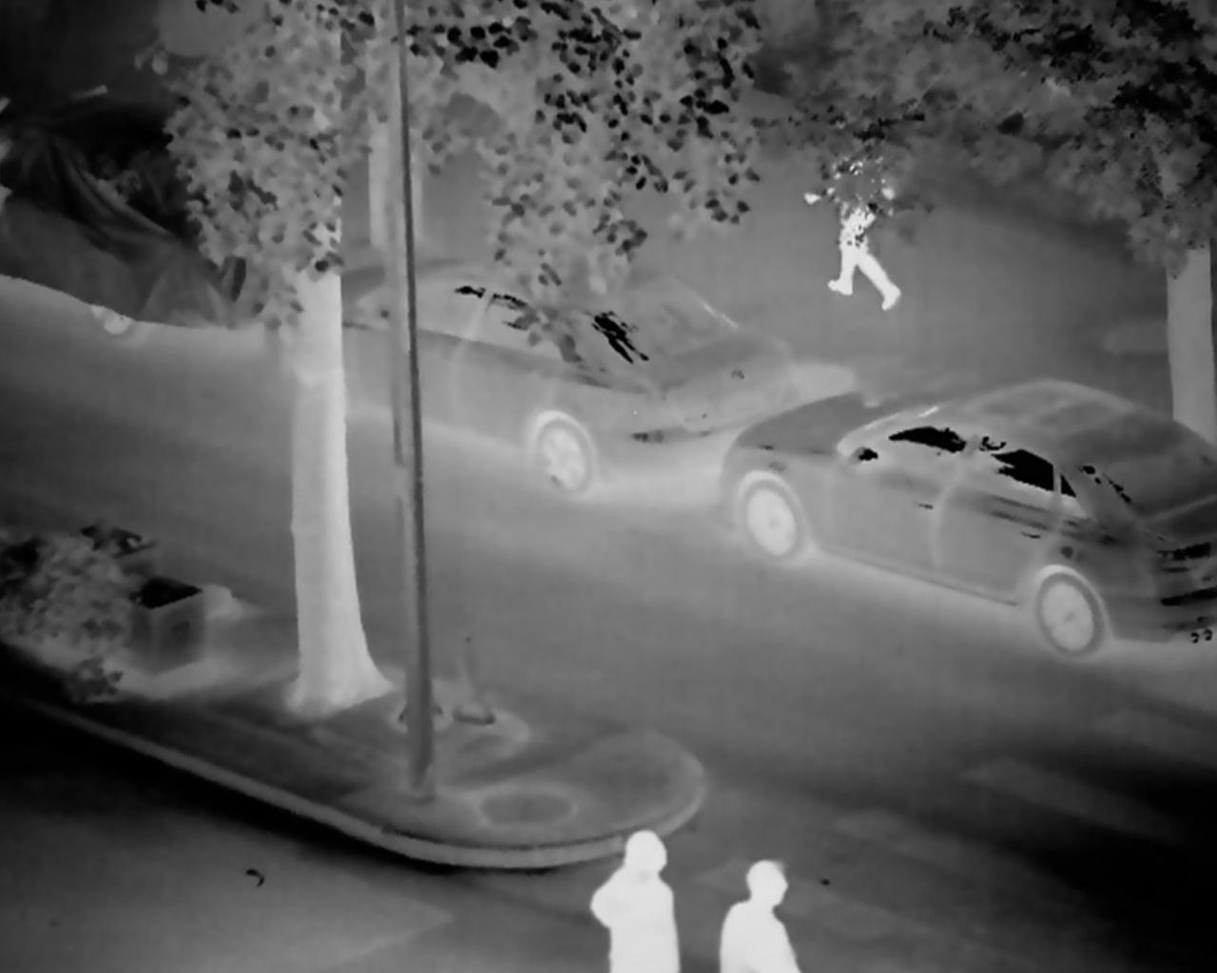person: (796, 146, 912, 310), (586, 825, 681, 973), (717, 852, 814, 973)
